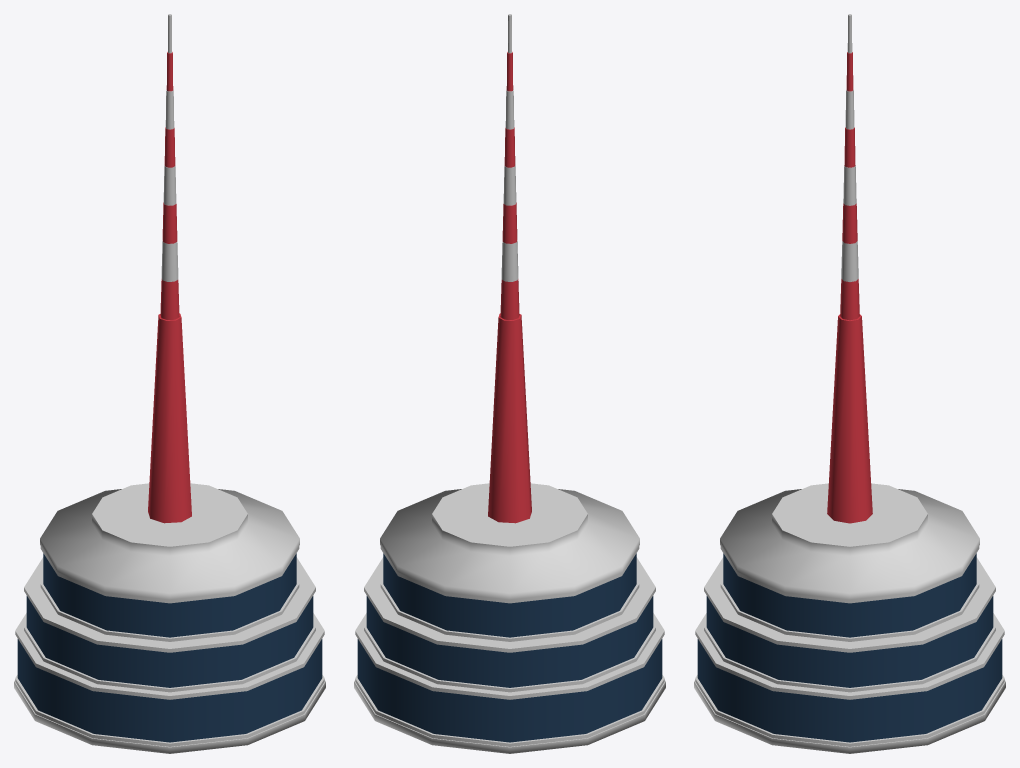
The model's file is top-prebuilt_far.fbx.
3 renders of one model, left to right at view 1: azimuth 30°, elevation 25°; view 2: azimuth 150°, elevation 25°; view 3: azimuth 270°, elevation 25°, orthographic.
Parts seen in each view (by area): view 1: landmark-great_tower/0/top-prebuilt_far; view 2: landmark-great_tower/0/top-prebuilt_far; view 3: landmark-great_tower/0/top-prebuilt_far.
Boxes of the visible parts, x1,y1,x2,y2 form: landmark-great_tower/0/top-prebuilt_far: [14, 14, 325, 753]; landmark-great_tower/0/top-prebuilt_far: [354, 14, 665, 753]; landmark-great_tower/0/top-prebuilt_far: [694, 14, 1005, 753].
Bounding box in the file's own units: 30 × 75 × 30.
